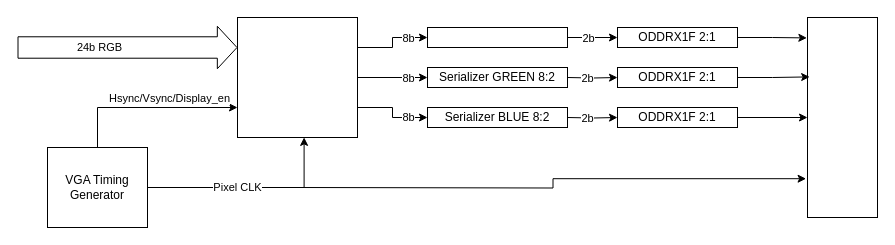
This 895x245 diagram has some shape labels left out. Here are the shapes that lost their labels. From the top down, the centre of each, then its label:
the point at 497,37: Serializer RED 8:2
the point at 297,77: TMDS Converter
the point at 842,117: HDMI/ DVI Connector (differential)
